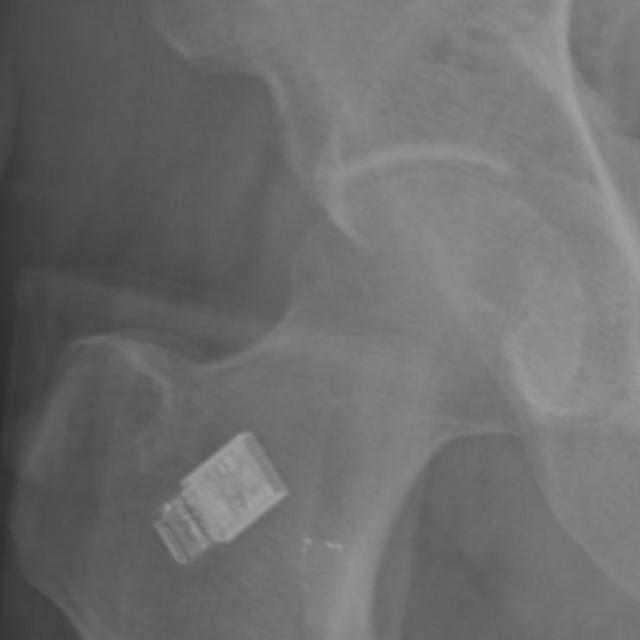Fitted_femural_head: (296, 169, 432, 296)
